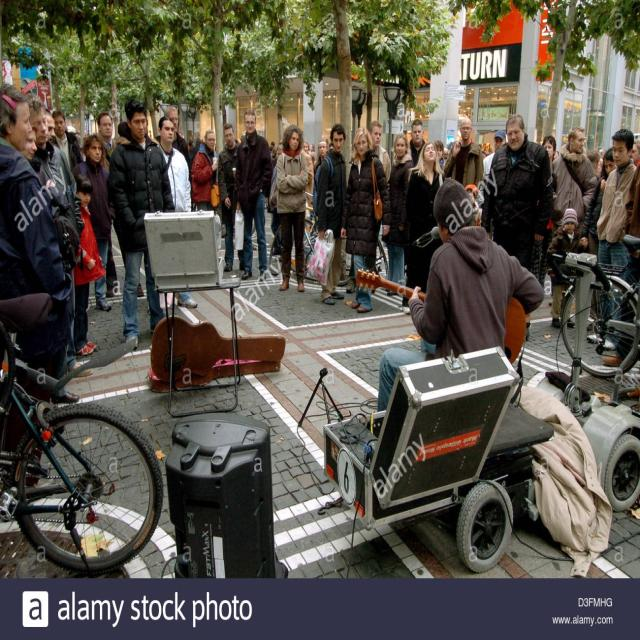body: (376, 176, 546, 416), (0, 81, 78, 505), (23, 92, 94, 378), (106, 96, 179, 354), (480, 108, 554, 342), (585, 127, 638, 352), (338, 125, 393, 315), (66, 131, 117, 316), (96, 112, 144, 298), (343, 118, 392, 297), (304, 120, 350, 307), (156, 116, 198, 310), (232, 107, 274, 283), (71, 172, 108, 358), (404, 140, 446, 295), (274, 122, 310, 295), (380, 132, 414, 298), (544, 206, 589, 330), (549, 125, 598, 238), (601, 248, 640, 367), (217, 121, 246, 273), (150, 105, 193, 200), (580, 146, 616, 255), (443, 118, 484, 188), (190, 129, 222, 211), (478, 129, 508, 211), (51, 109, 85, 172), (268, 144, 284, 255), (625, 138, 640, 247), (312, 139, 328, 217), (18, 117, 39, 161), (409, 118, 426, 168), (432, 140, 456, 174), (178, 127, 208, 152), (40, 107, 57, 148), (586, 146, 607, 176), (542, 134, 558, 166), (297, 142, 318, 160), (232, 128, 247, 148), (267, 138, 280, 160), (553, 147, 562, 160), (147, 127, 153, 138), (324, 135, 329, 146)
